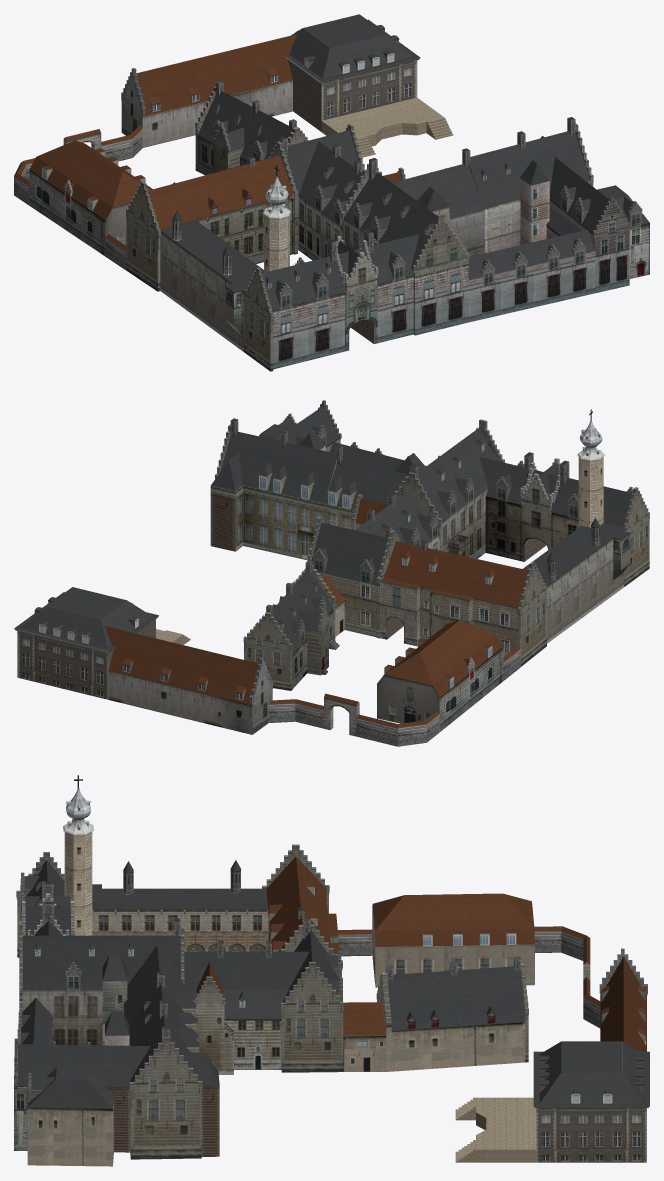
The model's file is museum.glb.
3 views of the same model, one above another, from view 1: azimuth 30°, elevation 25°; view 2: azimuth 150°, elevation 25°; view 3: azimuth 270°, elevation 25° (orthographic). The views are drawn at different scales.
Parts seen in each view (by area): view 1: Material2 (×3); view 2: Material2 (×3); view 3: Material2 (×3).
Part boxes in pixels (bbox=[...]): Material2 (×3): bbox=[14, 14, 649, 371]; Material2 (×3): bbox=[14, 400, 649, 746]; Material2 (×3): bbox=[14, 775, 649, 1166].
Size of the model in its own units: 47 by 20.1 by 58.24.
Materials: 5 (4 with a texture image).
